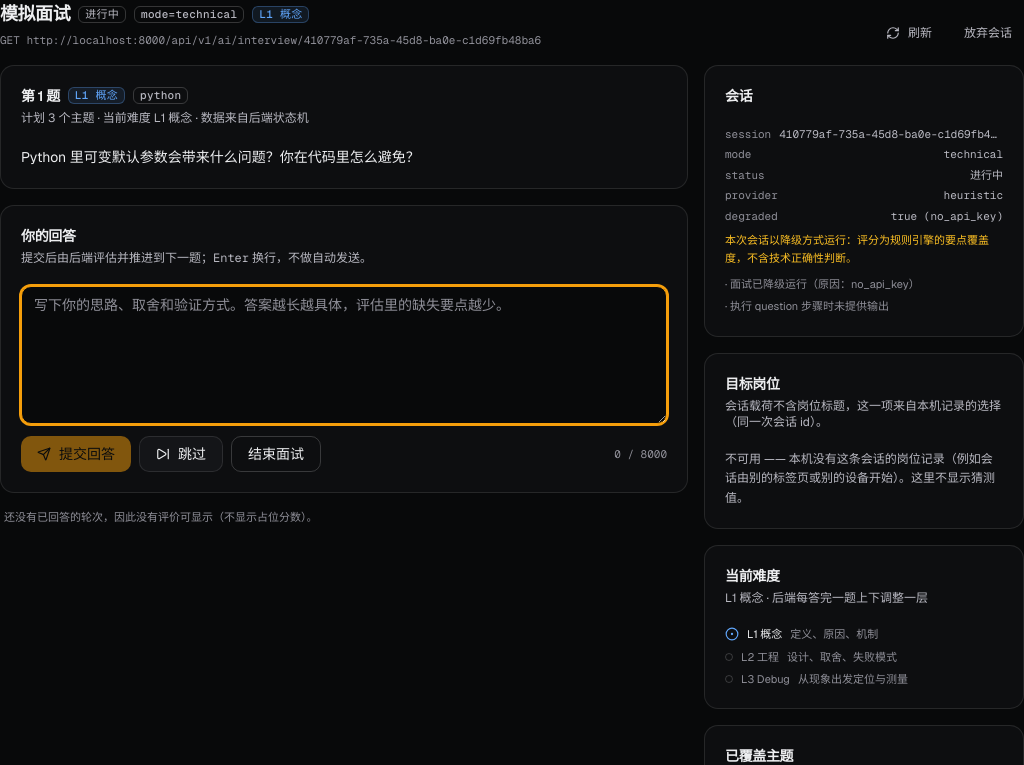
Test: a failed turn › re-reads before resubmitting, and does not double-post an answer that already landed
In the text box named "你的回答": [344, 355] box x1=21 y1=286 x2=667 y2=424, type "我用 None 作为默认值，避免可变对象在多次调用之间被共享。"
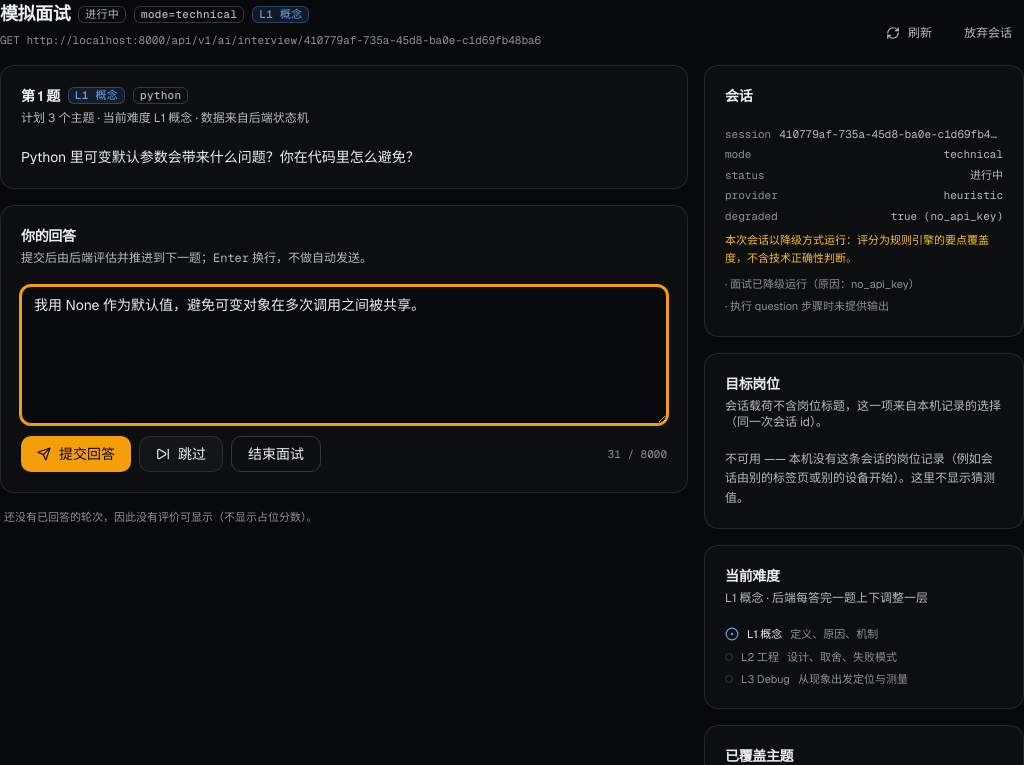
Click the button "提交回答": [76, 454] box x1=21 y1=436 x2=131 y2=472
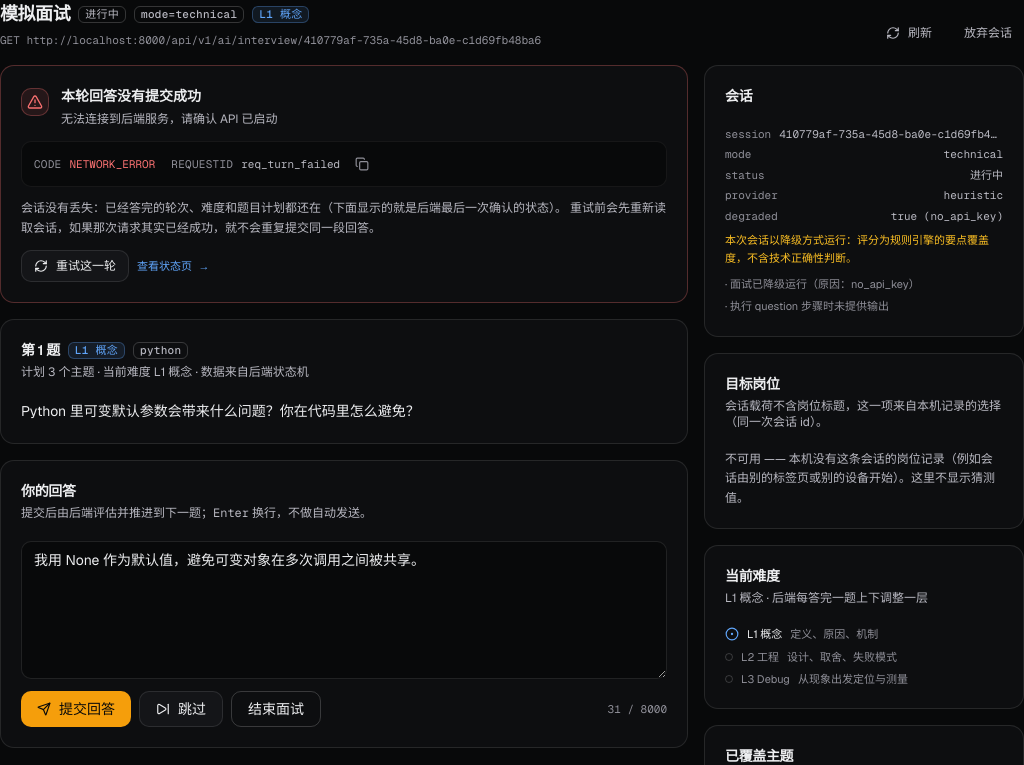
Result: the message is shown at x1=0 y1=64 x2=688 y2=303
Click the button "重试这一轮": [75, 266] box x1=21 y1=250 x2=129 y2=282
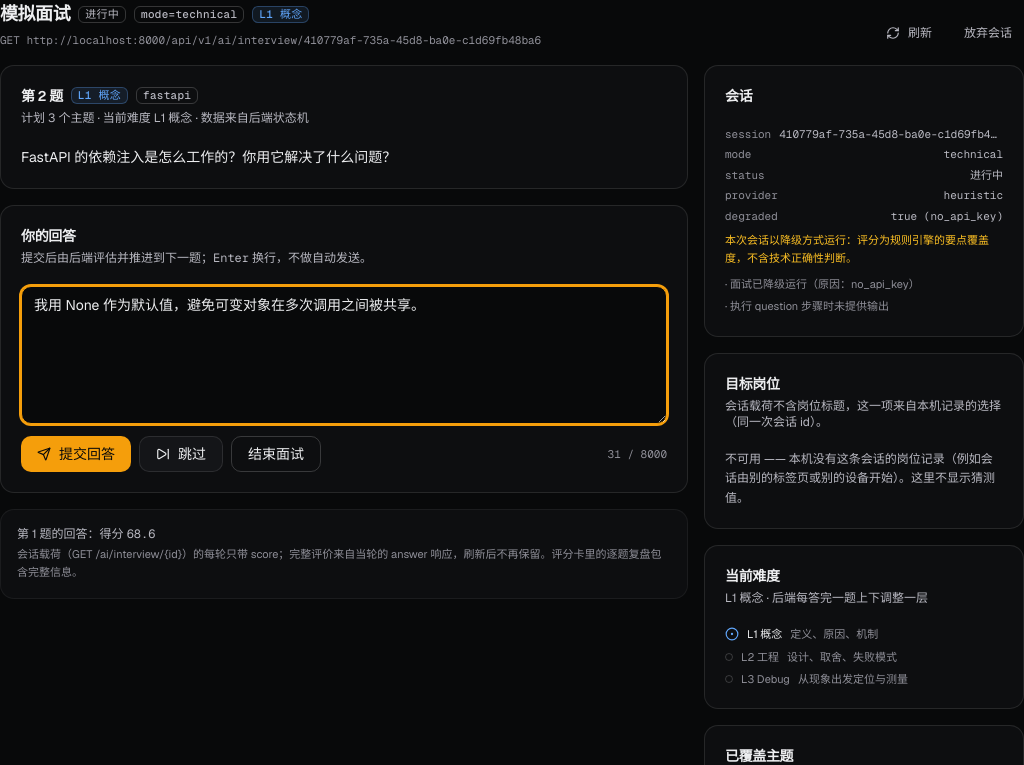
Result: the text "FastAPI 的依赖注入是怎么工作的？你用它解决了什么问题？" is shown at x1=21 y1=148 x2=396 y2=166
Result: the message is gone
